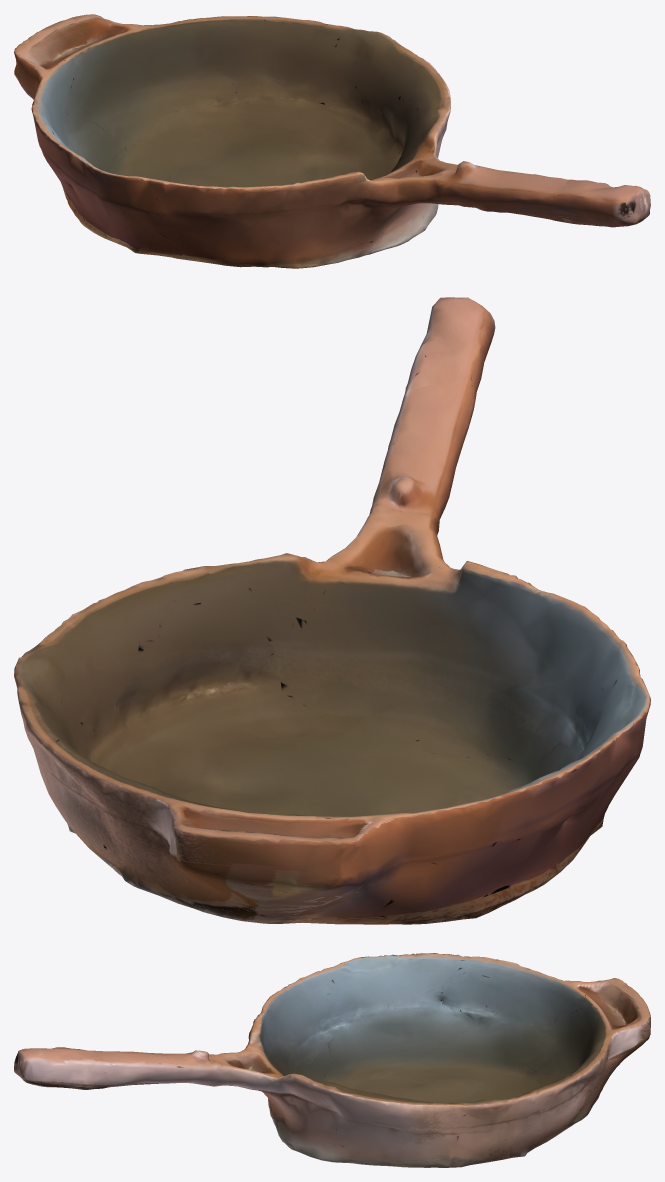
The model's file is pan.glb.
The picture shows the model from 3 angles, top to bottom: view 1: azimuth 30°, elevation 25°; view 2: azimuth 150°, elevation 25°; view 3: azimuth 270°, elevation 25°; orthographic projection. The views are drawn at different scales.
Visible parts, largest first — view 1: dumpling; view 2: dumpling; view 3: dumpling.
Boxes of the visible parts, bbox=[...] form: dumpling: bbox=[14, 14, 650, 268]; dumpling: bbox=[14, 297, 650, 924]; dumpling: bbox=[14, 953, 650, 1167].
Bounding box in the file's own units: 2.38 × 0.894 × 4.2.
Materials: 1 (1 with a texture image).
